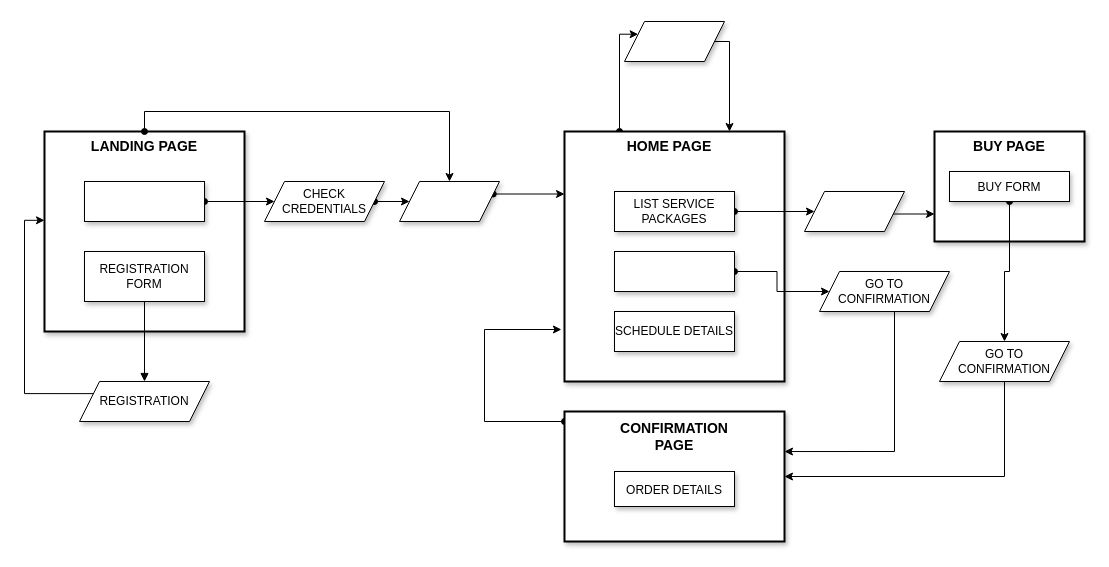
This 1109x567 diagram has some shape labels left out. Each missing label, with the centre of its shape:
"GO TO BUY" belongs at pixel 855 212.
"GO TO HOME PAGE" belongs at pixel 450 202.
"LIST REJECTED ORDERS" belongs at pixel 675 272.
"LOGIN FORM" belongs at pixel 145 202.
"LOGOUT" belongs at pixel 675 42.
